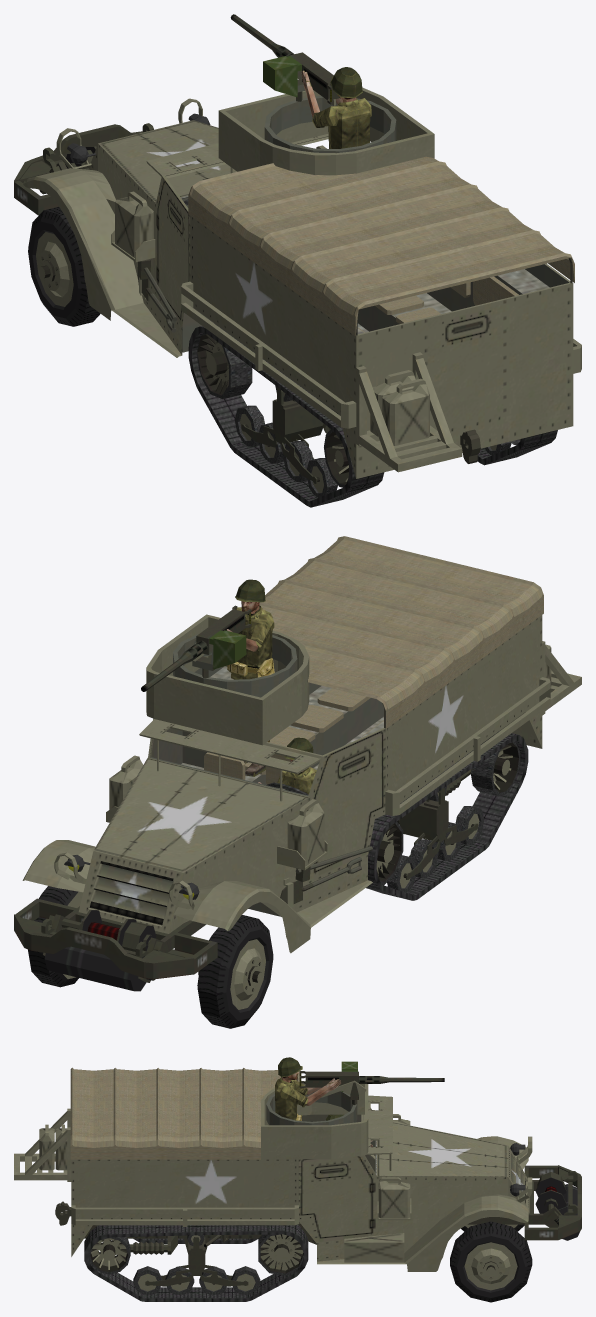
The model's file is us_halftrack.glb.
The picture shows the model from 3 angles, top to bottom: view 1: azimuth 30°, elevation 25°; view 2: azimuth 150°, elevation 25°; view 3: azimuth 270°, elevation 25°; orthographic projection. The views are drawn at different scales.
Visible parts, largest first — view 1: base, tent, door, tracks1, wheel1, rear_cans_holder, gunner, rear_cans, turret, front_1, gun, wheel2 (+7 smaller); view 2: base, tent, front_1, wheel1, tracks1, windscreen_cover, gunner, cans, turret, gun, front_2, wheel8 (+6 smaller); view 3: base, tent, tracks1, wheel1, front_1, gunner, rear_cans_holder, gun, wheel2, turret, cans, windscreen_cover (+7 smaller).
Boxes of the visible parts, x1=… form: base: x1=23, y1=87, x2=581, y2=483; tent: x1=188, y1=156, x2=574, y2=336; door: x1=428, y1=300, x2=500, y2=430; tracks1: x1=188, y1=323, x2=557, y2=507; wheel1: x1=28, y1=206, x2=100, y2=326; rear_cans_holder: x1=356, y1=352, x2=462, y2=472; gunner: x1=301, y1=67, x2=371, y2=148; rear_cans: x1=370, y1=370, x2=429, y2=445; turret: x1=264, y1=79, x2=396, y2=153; front_1: x1=14, y1=123, x2=153, y2=215; gun: x1=230, y1=14, x2=340, y2=105; wheel2: x1=197, y1=333, x2=252, y2=399; base: x1=22, y1=614, x2=550, y2=982; tent: x1=259, y1=536, x2=543, y2=728; front_1: x1=14, y1=898, x2=217, y2=979; wheel1: x1=28, y1=886, x2=273, y2=1028; tracks1: x1=366, y1=730, x2=528, y2=900; windscreen_cover: x1=139, y1=719, x2=320, y2=773; gunner: x1=226, y1=579, x2=274, y2=776; cans: x1=109, y1=755, x2=324, y2=866; turret: x1=173, y1=634, x2=297, y2=697; gun: x1=141, y1=605, x2=251, y2=691; front_2: x1=39, y1=915, x2=167, y2=991; wheel8: x1=470, y1=741, x2=520, y2=796; base: x1=55, y1=1081, x2=562, y2=1286; tent: x1=70, y1=1067, x2=299, y2=1159; tracks1: x1=84, y1=1224, x2=308, y2=1301; wheel1: x1=450, y1=1221, x2=532, y2=1302; front_1: x1=524, y1=1165, x2=581, y2=1240; gunner: x1=275, y1=1057, x2=341, y2=1120; rear_cans_holder: x1=14, y1=1108, x2=71, y2=1181; gun: x1=299, y1=1061, x2=444, y2=1097; wheel2: x1=258, y1=1234, x2=303, y2=1275; turret: x1=266, y1=1082, x2=358, y2=1125; cans: x1=378, y1=1114, x2=410, y2=1218; windscreen_cover: x1=364, y1=1095, x2=392, y2=1155.
Bounding box in the file's own units: 2.08 × 2.61 × 6.
Materials: 1 (1 with a texture image).
